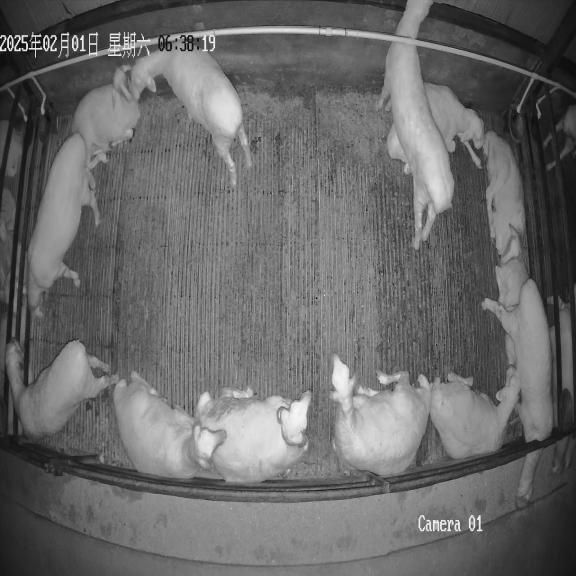eating: (482, 279, 553, 506), (495, 258, 529, 372)
lying: (330, 354, 432, 478), (114, 371, 226, 478), (195, 388, 311, 483), (386, 83, 484, 168), (430, 368, 519, 459), (72, 65, 140, 170), (482, 131, 526, 263)
stand: (378, 0, 454, 250), (130, 50, 251, 188), (27, 134, 99, 317), (5, 340, 120, 438)
